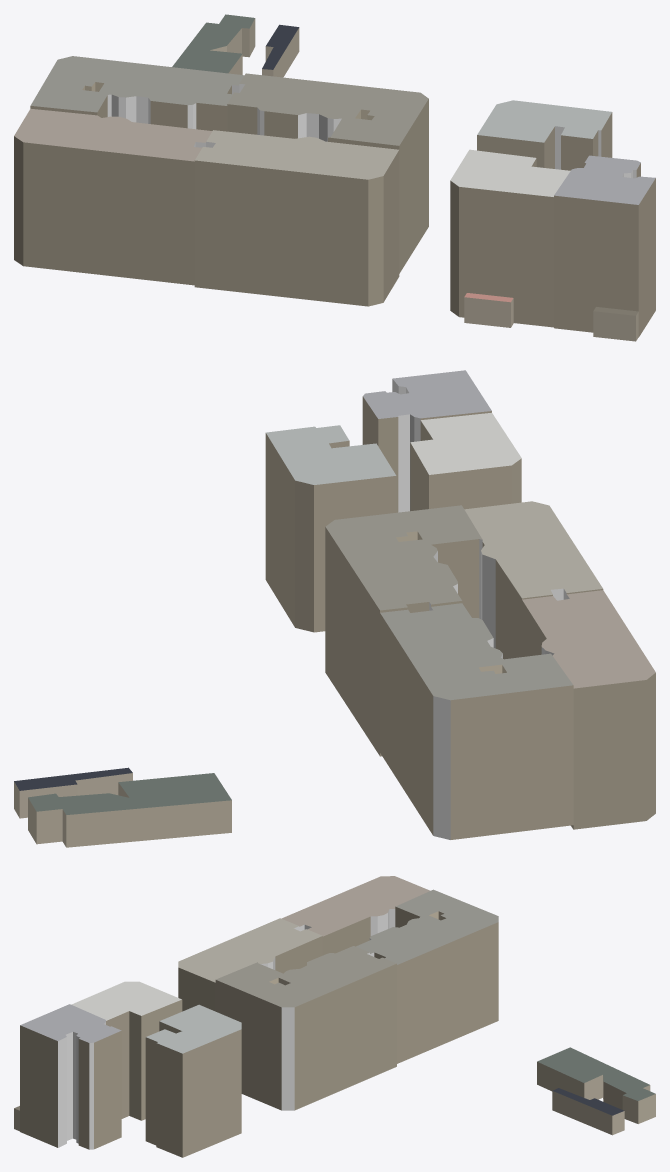
3 views of the same model, one above another, from view 1: azimuth 30°, elevation 25°; view 2: azimuth 150°, elevation 25°; view 3: azimuth 270°, elevation 25° (orthographic). The views are drawn at different scales.
Visible parts, largest first — view 1: tuile; view 2: tuile; view 3: tuile.
Part boxes in pixels (<box>): tuile: <box>14,14,655,341</box>; tuile: <box>14,370,655,847</box>; tuile: <box>14,876,655,1157</box>.
Bounding box in the file's own units: 92.49 × 25.34 × 137.
